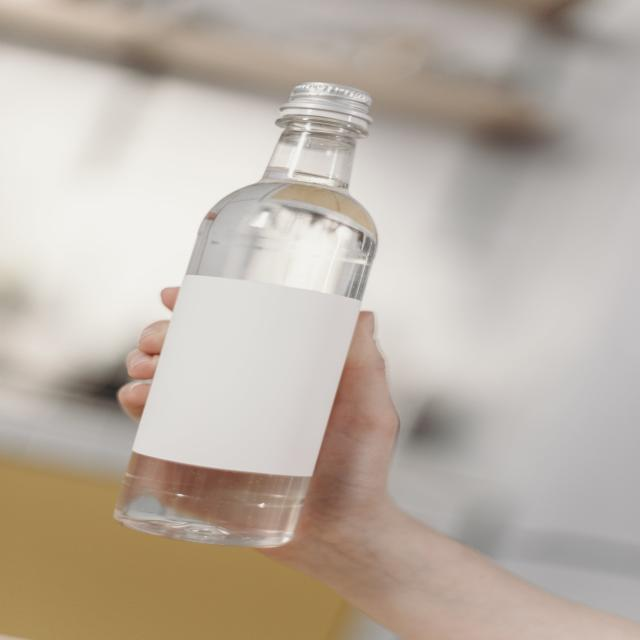bottle: (115, 76, 382, 558)
